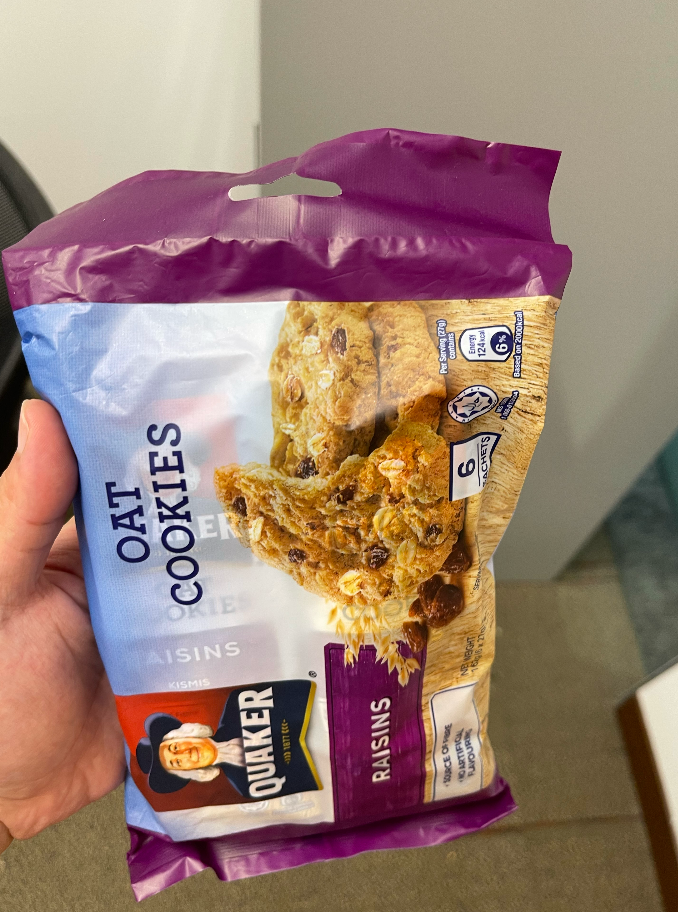cookies_100g-199g: (101, 249, 505, 814)
